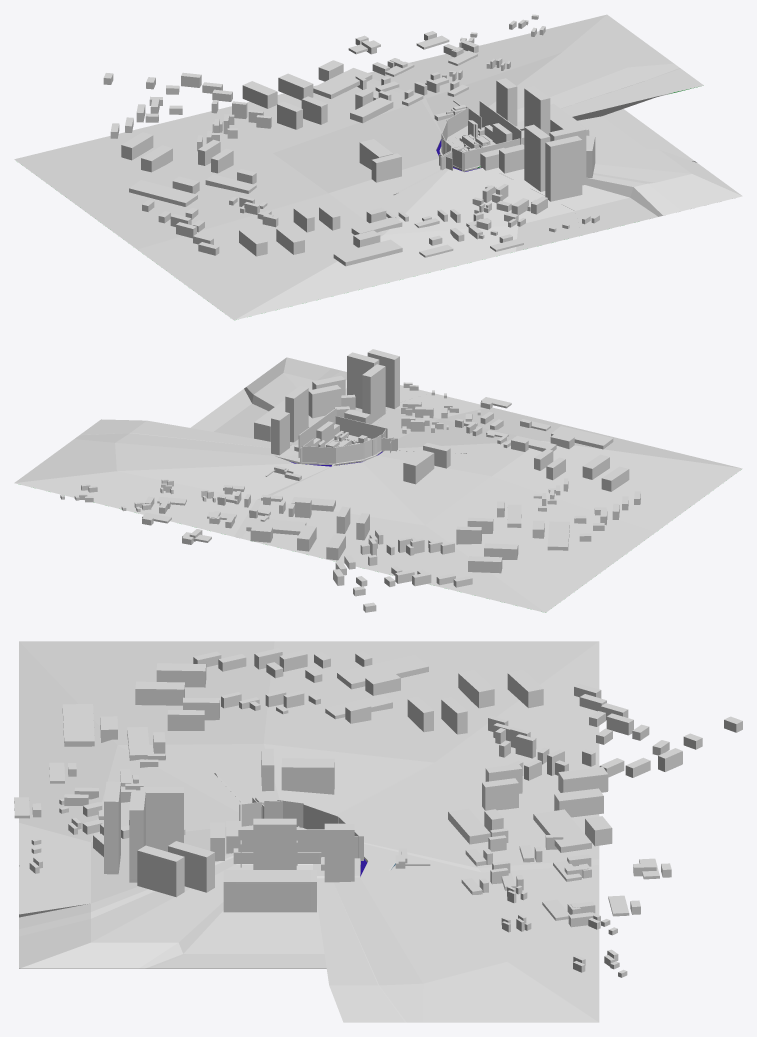
The model's file is Tue Map VERSION 3 BakedtERRAIN.fbx.
3 views of the same model, one above another, from view 1: azimuth 30°, elevation 25°; view 2: azimuth 150°, elevation 25°; view 3: azimuth 270°, elevation 25° (orthographic). The views are drawn at different scales.
Visible parts, largest first — view 1: Terrain, BG Building3.003, BG Building4.030, BG Building4.004, BG Building3.056, BG Building3.063, BG Building3.083, BG Building4.027, BG Building3.006, BG Building3.081, BG Building3.082, BG Building4 (+13 smaller); view 2: Terrain, BG Building4.030, BG Building4.004, BG Building3.003, BG Building3.005, BG Building3.004, BG Building4.009, BG Building4.027, Boundary2, BG Building3.056, BG Building3.063, BG Building3.083 (+10 smaller); view 3: Terrain, BG Building3, BG Building4.004, BG Building4.030, BG Building3.053, BG Building4.009, BG Building4.027, BG Building3.003, BG Building3.004, BG Building3.083, BG Building3.063, BG Building3.056 (+19 smaller).
Boxes of the visible parts, x1=… form: Terrain: x1=14, y1=14, x2=742, y2=320; BG Building3.003: x1=545, y1=136, x2=582, y2=201; BG Building4.030: x1=524, y1=124, x2=550, y2=191; BG Building4.004: x1=524, y1=86, x2=550, y2=135; BG Building3.056: x1=333, y1=239, x2=402, y2=266; BG Building3.063: x1=129, y1=180, x2=197, y2=206; BG Building3.083: x1=313, y1=68, x2=372, y2=98; BG Building4.027: x1=496, y1=78, x2=517, y2=126; BG Building3.006: x1=371, y1=153, x2=401, y2=182; BG Building3.081: x1=242, y1=81, x2=277, y2=108; BG Building3.082: x1=278, y1=73, x2=313, y2=100; BG Building4: x1=499, y1=144, x2=524, y2=173; Terrain: x1=14, y1=357, x2=742, y2=612; BG Building4.030: x1=362, y1=364, x2=385, y2=424; BG Building4.004: x1=285, y1=386, x2=308, y2=442; BG Building3.003: x1=367, y1=349, x2=399, y2=408; BG Building3.005: x1=347, y1=352, x2=379, y2=408; BG Building3.004: x1=308, y1=385, x2=341, y2=418; BG Building4.009: x1=403, y1=450, x2=434, y2=484; BG Building4.027: x1=271, y1=411, x2=289, y2=455; Boundary2: x1=335, y1=416, x2=387, y2=439; BG Building3.056: x1=551, y1=426, x2=613, y2=449; BG Building3.063: x1=547, y1=521, x2=569, y2=550; BG Building3.083: x1=246, y1=518, x2=306, y2=535; Terrain: x1=19, y1=641, x2=599, y2=1022; BG Building3: x1=223, y1=870, x2=316, y2=912; BG Building4.004: x1=253, y1=818, x2=296, y2=869; BG Building4.030: x1=140, y1=787, x2=183, y2=851; BG Building3.053: x1=137, y1=845, x2=184, y2=897; BG Building4.009: x1=281, y1=758, x2=334, y2=794; BG Building4.027: x1=324, y1=823, x2=354, y2=882; BG Building3.003: x1=104, y1=781, x2=120, y2=874; BG Building3.004: x1=168, y1=841, x2=214, y2=892; BG Building3.083: x1=533, y1=809, x2=591, y2=852; BG Building3.063: x1=337, y1=655, x2=428, y2=689; BG Building3.056: x1=62, y1=704, x2=94, y2=746.
Size of the model in its own units: 31850 by 3435 by 25713.
